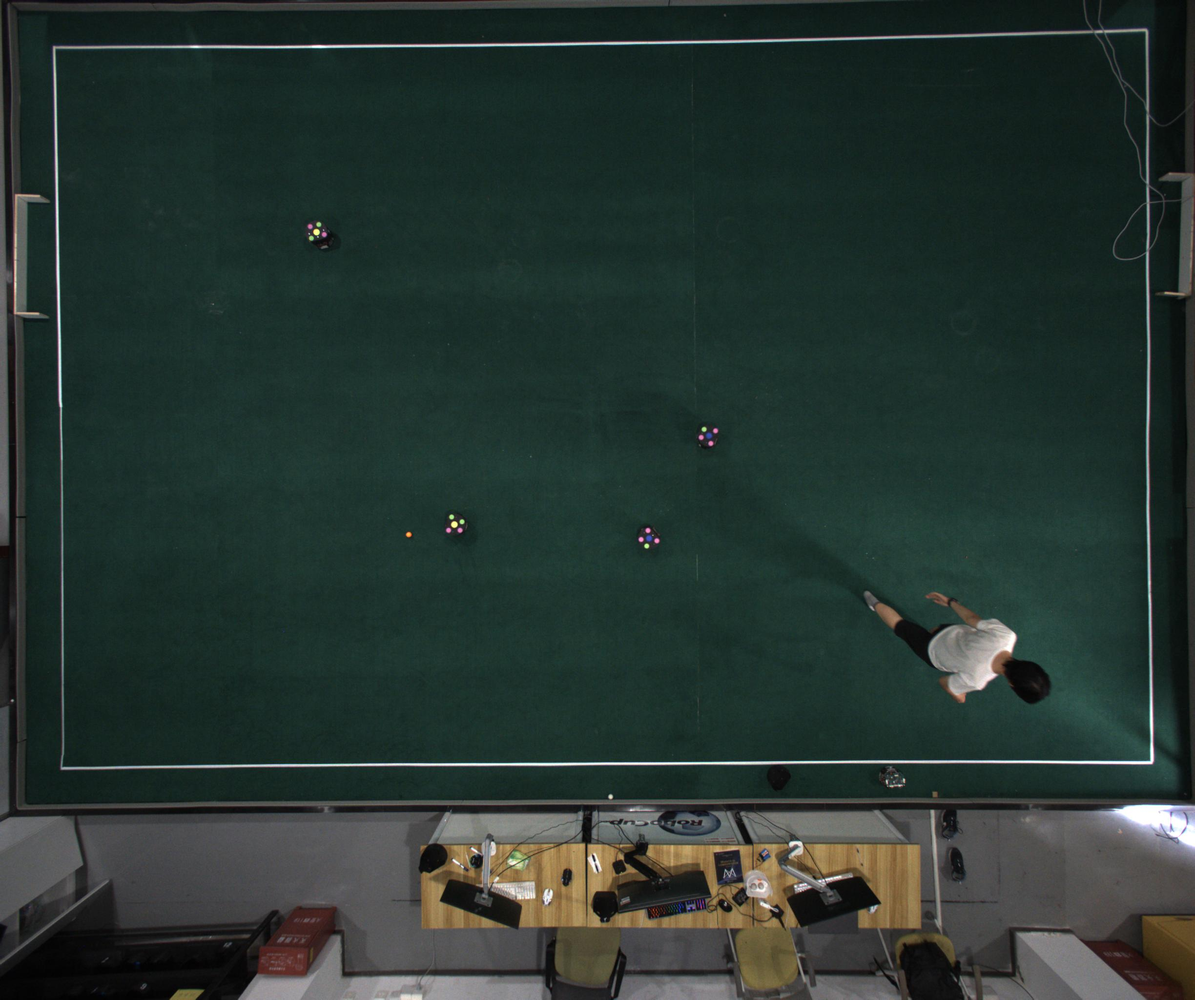ball: (406, 531, 412, 538)
blue_bot: (637, 526, 660, 551), (697, 425, 719, 448)
yellow_bot: (445, 513, 467, 536), (305, 220, 328, 242)
